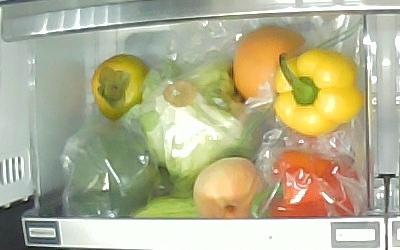broccoli_vinyl: (67, 135, 160, 218)
cucumber: (129, 196, 279, 218)
grapefruit: (233, 26, 305, 102)
lettuce_vinyl: (142, 64, 260, 193)
paprika: (275, 49, 364, 135)
paprika_vinyl: (251, 150, 361, 219)
peach: (194, 157, 265, 220)
persimmon: (91, 54, 151, 121)
